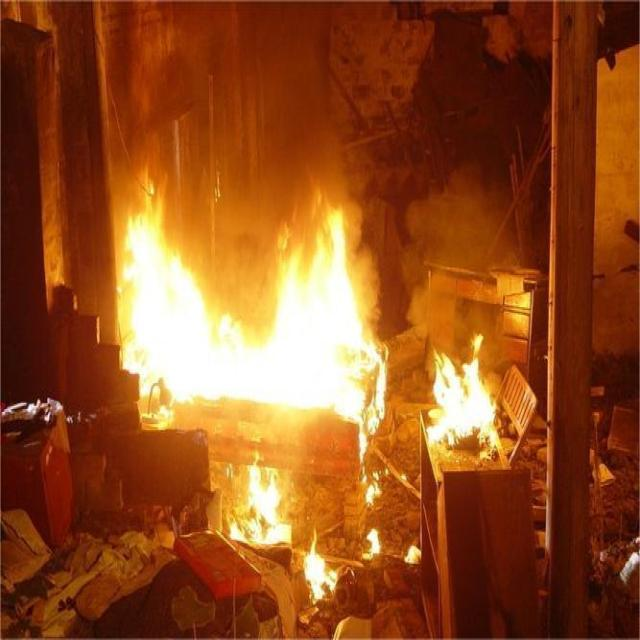Fire: (116, 211, 382, 412), (424, 336, 496, 446), (232, 466, 290, 542), (304, 542, 336, 602)
